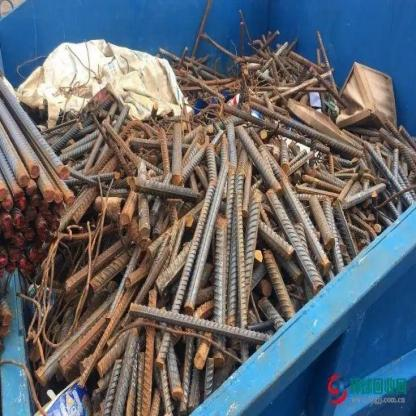rebar: (13, 1, 415, 415), (1, 93, 76, 204), (0, 78, 69, 177), (0, 181, 68, 278), (0, 98, 39, 180), (1, 358, 50, 414), (24, 134, 63, 203), (0, 121, 29, 186), (1, 149, 24, 202), (0, 292, 13, 342), (37, 169, 53, 202), (0, 168, 9, 201), (12, 207, 24, 229), (0, 198, 16, 214)
